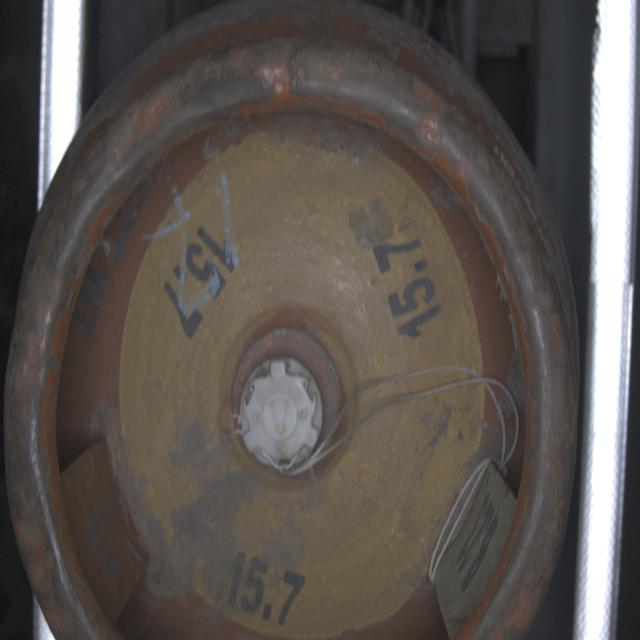Cap: (239, 356, 325, 480)
